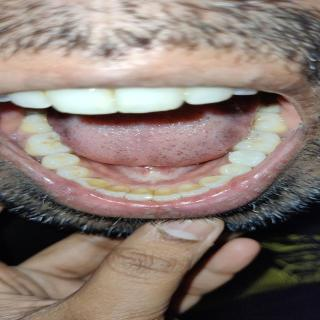calculus: (102, 184, 134, 196), (173, 183, 203, 195), (152, 186, 180, 198), (129, 185, 154, 197), (65, 156, 90, 168), (195, 176, 221, 186), (87, 178, 109, 188), (53, 148, 78, 156)
